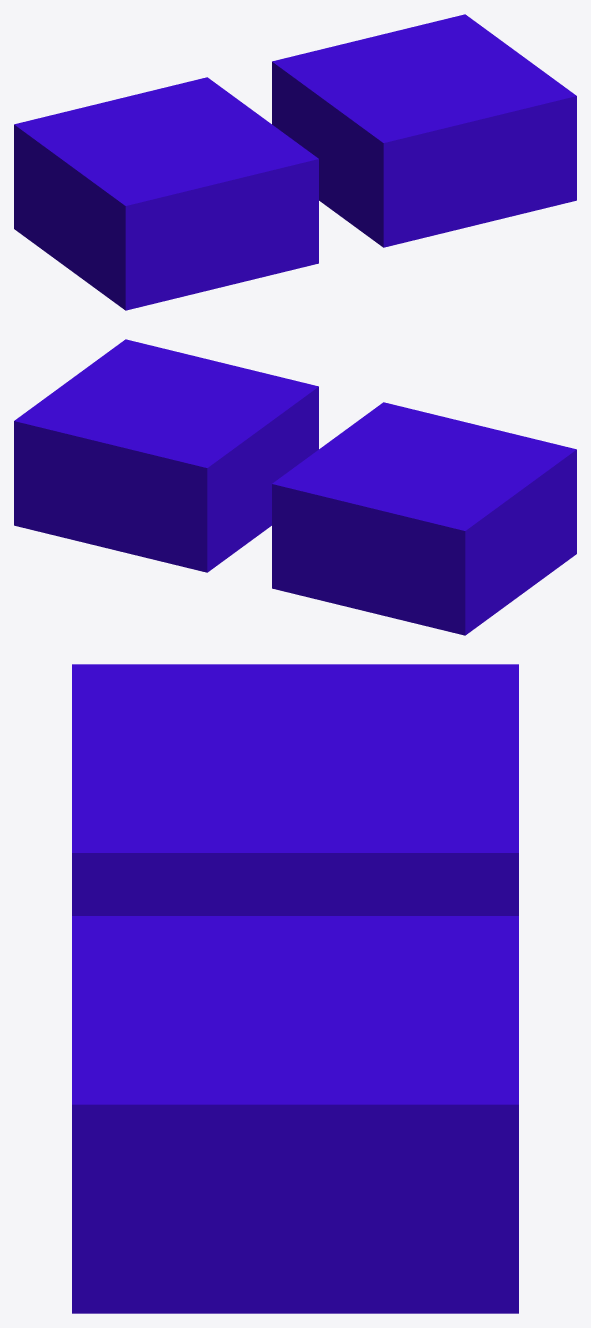
The model's file is water.fbx.
3 renders of one model, top to bottom at view 1: azimuth 30°, elevation 25°; view 2: azimuth 150°, elevation 25°; view 3: azimuth 270°, elevation 25°, orthographic. The views are drawn at different scales.
Parts seen in each view (by area): view 1: Cube, Cube.001; view 2: Cube, Cube.001; view 3: Cube.001, Cube.
Boxes of the visible parts, bbox=[...] form: Cube: bbox=[14, 77, 318, 310]; Cube.001: bbox=[272, 14, 576, 247]; Cube: bbox=[272, 402, 576, 635]; Cube.001: bbox=[14, 339, 318, 572]; Cube.001: bbox=[72, 916, 518, 1313]; Cube: bbox=[72, 664, 518, 915].
Size of the model in its own units: 2800 by 620 by 1200.
